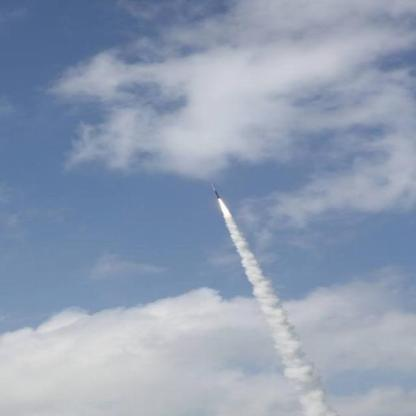MIL_TBM: (210, 181, 222, 201)
